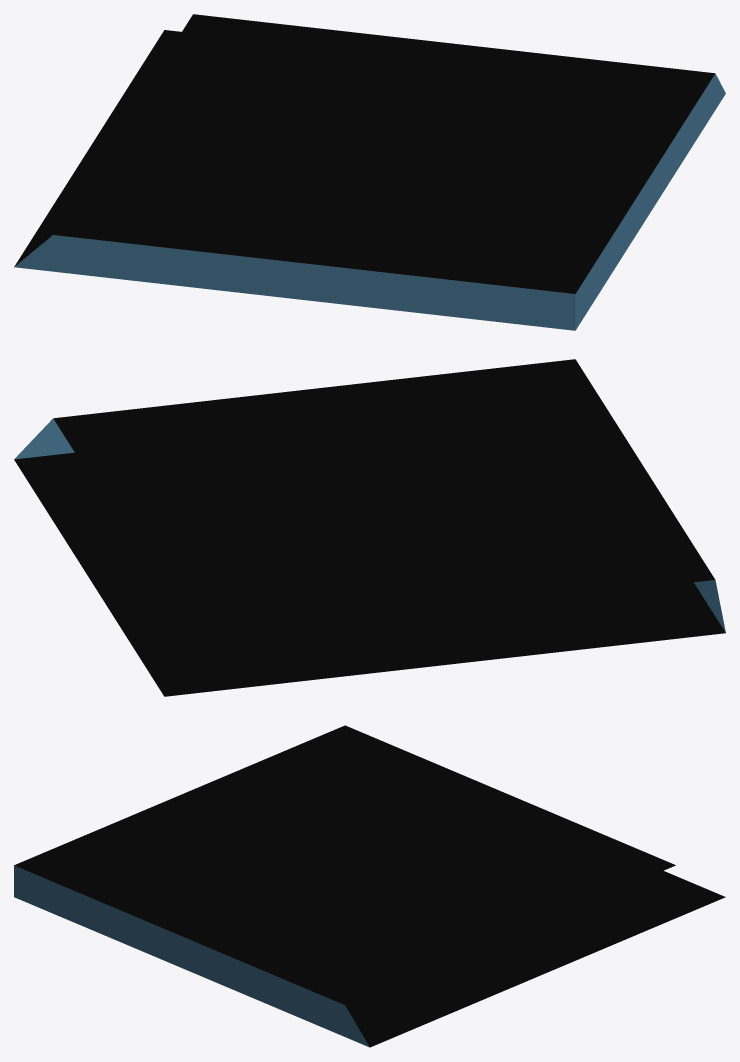
The model's file is Floor.fbx.
3 renders of one model, top to bottom at view 1: azimuth 30°, elevation 25°; view 2: azimuth 150°, elevation 25°; view 3: azimuth 270°, elevation 25°, orthographic. The views are drawn at different scales.
Parts seen in each view (by area): view 1: Floor.006; view 2: Floor.006; view 3: Floor.006.
Part boxes in pixels (x1,y1,x2,y2): Floor.006: [14, 14, 725, 330]; Floor.006: [14, 359, 725, 696]; Floor.006: [14, 725, 725, 1047].
Bounding box in the file's own units: 456 × 456 × 22.5.
